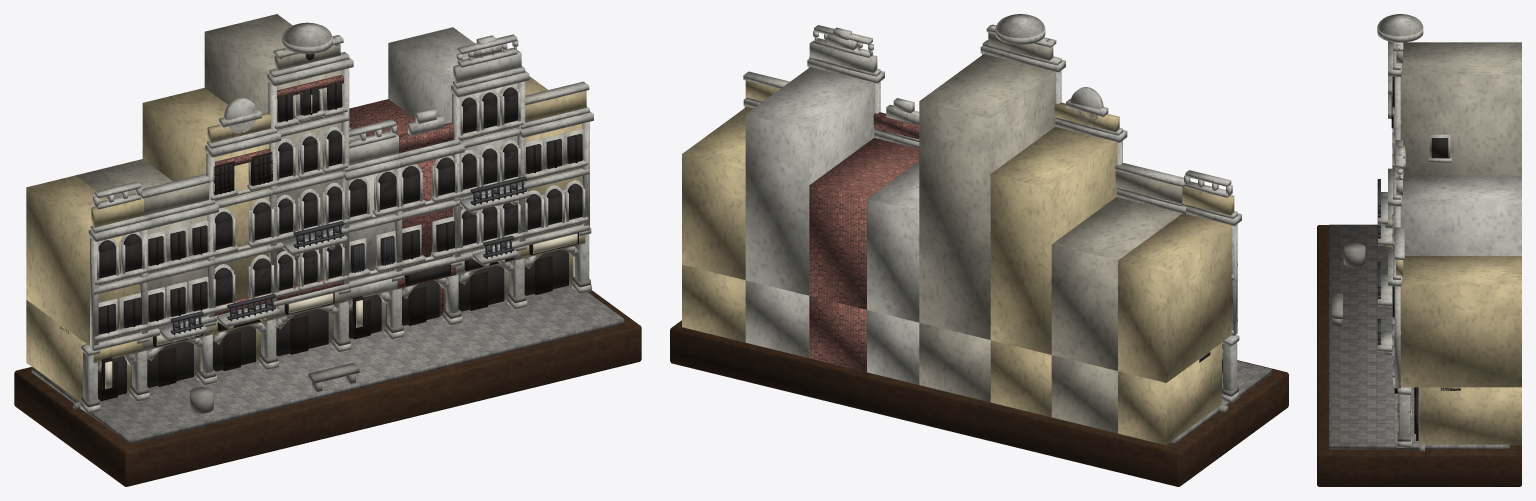
File: chikan.glb
3 views of the same model, side by side, from view 1: azimuth 30°, elevation 25°; view 2: azimuth 150°, elevation 25°; view 3: azimuth 270°, elevation 25° (orthographic). The views are drawn at different scales.
Visible parts, largest first — view 1: Chikan; view 2: Chikan; view 3: Chikan.
Boxes of the visible parts, x1,y1,x2,y2 form: Chikan: (14, 14, 641, 486); Chikan: (670, 14, 1288, 486); Chikan: (1317, 14, 1521, 486).
Size of the model in its own units: 0.8 by 0.55 by 0.3.
Materials: 13 (9 with a texture image).
